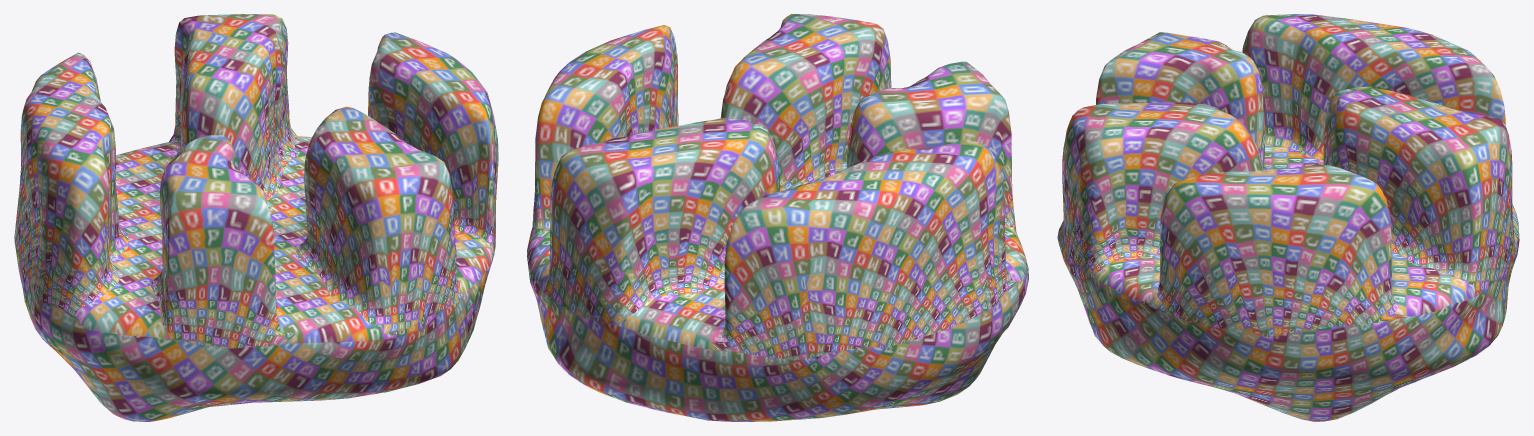
Rendered from island6Med.obj.
3 renders of one model, left to right at view 1: azimuth 30°, elevation 25°; view 2: azimuth 150°, elevation 25°; view 3: azimuth 270°, elevation 25°, orthographic. The views are drawn at different scales.
Parts seen in each view (by area): view 1: F3:GeoDome1_F3:GeoDome1_auv; view 2: F3:GeoDome1_F3:GeoDome1_auv; view 3: F3:GeoDome1_F3:GeoDome1_auv.
Boxes of the visible parts, x1=… form: F3:GeoDome1_F3:GeoDome1_auv: x1=14, y1=14, x2=498, y2=421; F3:GeoDome1_F3:GeoDome1_auv: x1=527, y1=14, x2=1028, y2=421; F3:GeoDome1_F3:GeoDome1_auv: x1=1057, y1=14, x2=1519, y2=421.
Bounding box in the file's own units: 2.02 × 1.36 × 1.99.
1 material, 1 textured.
